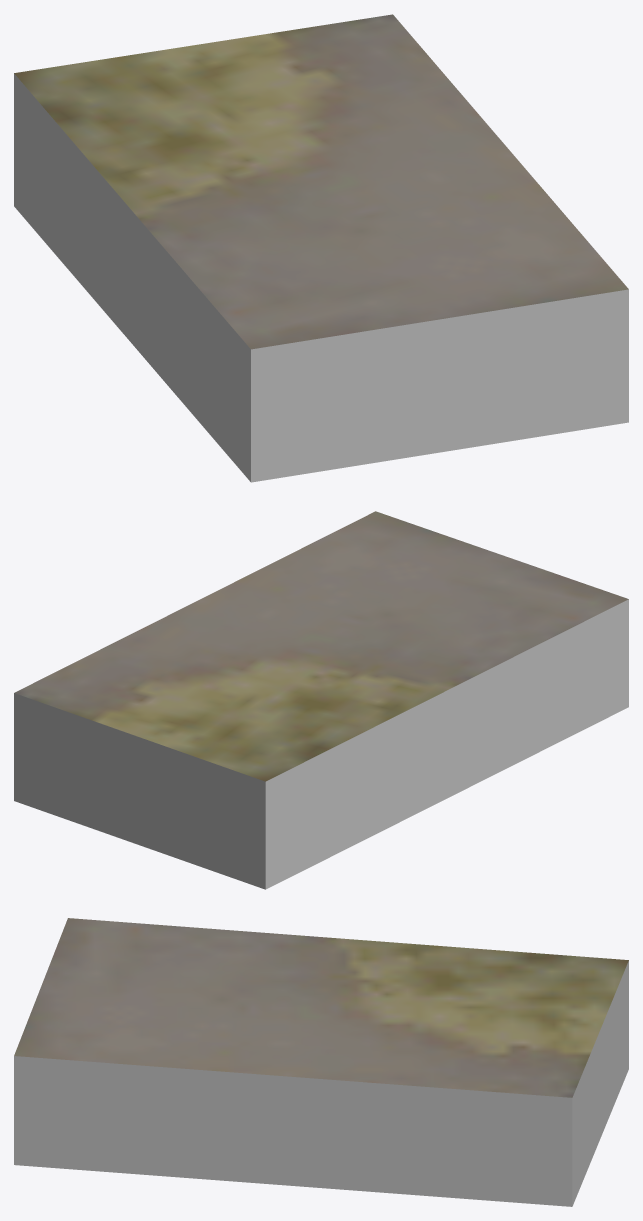
Rendered from DEBW_0010007TxhH.gltf.
3 views of the same model, one above another, from view 1: azimuth 30°, elevation 25°; view 2: azimuth 150°, elevation 25°; view 3: azimuth 270°, elevation 25° (orthographic). The views are drawn at different scales.
Visible parts, largest first — view 1: Z_UP; view 2: Z_UP; view 3: Z_UP.
Part boxes in pixels (box(x1,y1,x2,y2)): Z_UP: box(14, 14, 628, 482); Z_UP: box(14, 511, 628, 889); Z_UP: box(14, 918, 628, 1206).
Size of the model in its own units: 8.2 by 2.32 by 11.85.
2 materials, 1 textured.
